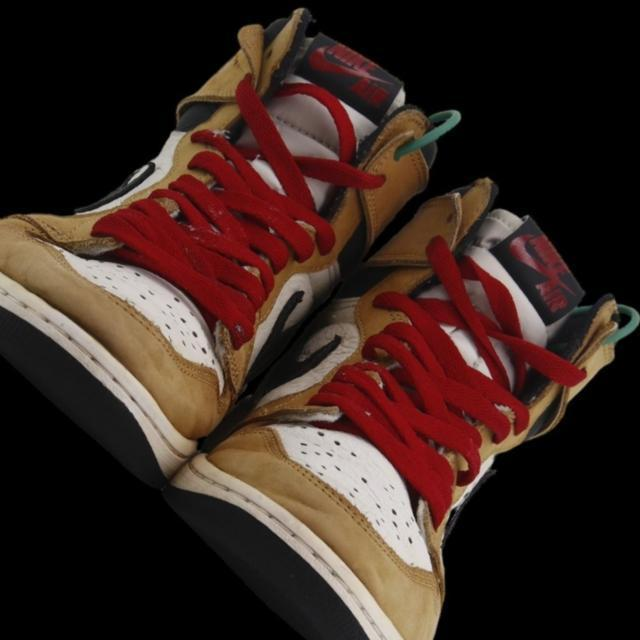nike original jordan 1: (0, 0, 491, 511), (141, 145, 640, 640)
